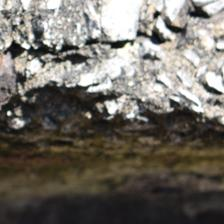Crack: (2, 10, 167, 55)
